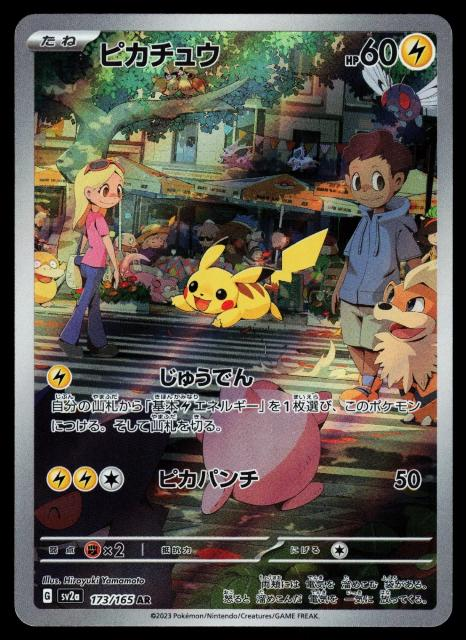Card: (8, 6, 459, 633)
Name: (94, 35, 227, 73)
